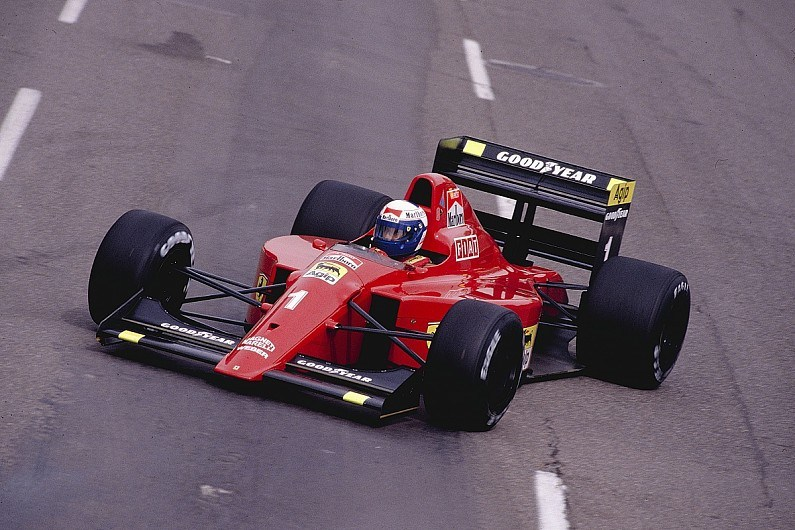f1_car: (71, 117, 713, 447)
